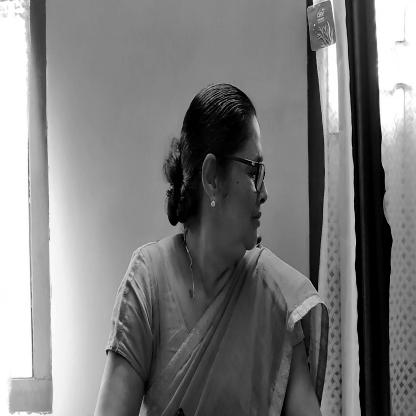Distracted: (179, 80, 269, 262)
